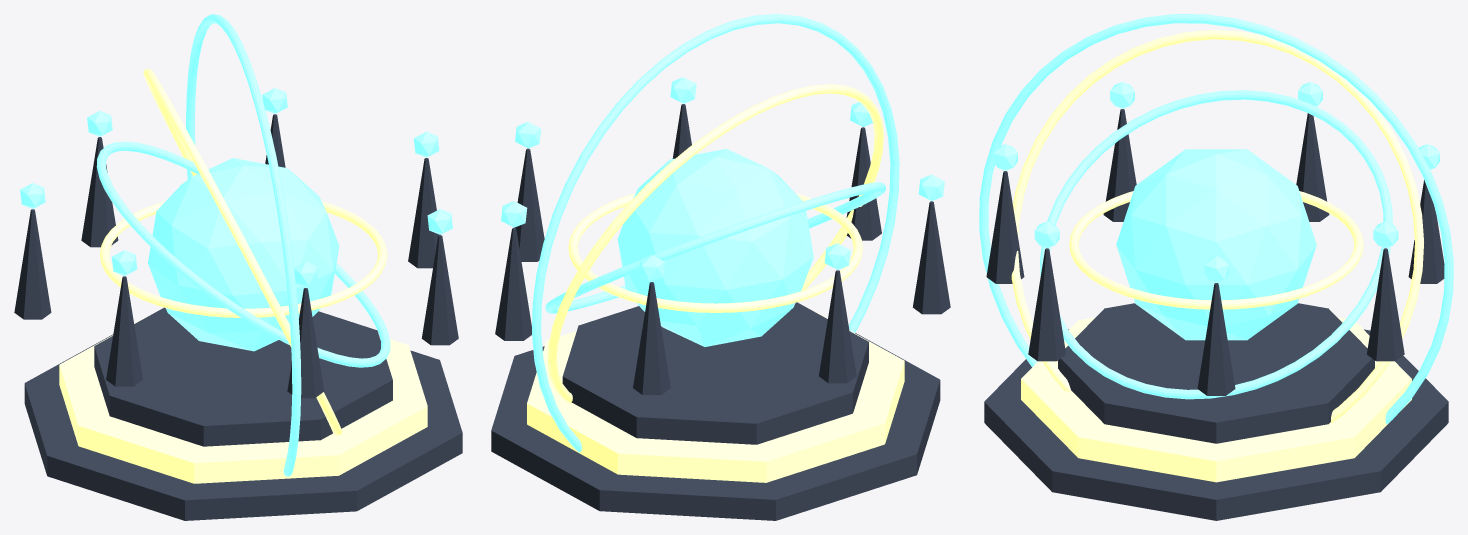
The model's file is gpu-blender-v32.glb.
3 views of the same model, side by side, from view 1: azimuth 30°, elevation 25°; view 2: azimuth 150°, elevation 25°; view 3: azimuth 270°, elevation 25° (orthographic). The views are drawn at different scales.
Parts seen in each view (by area): view 1: Cylinder.002, SovereignCore_ufo-sacred-geometry, Cylinder, Cylinder.001, Torus.003, Torus.001, Torus, Torus.002, Cone.003, Cone.006, Cone.004, Cone (+8 smaller); view 2: Cylinder.002, SovereignCore_ufo-sacred-geometry, Cylinder, Cylinder.001, Torus.003, Torus.002, Torus.001, Torus, Cone.003, Cone.004, Cone.002, Cone.001 (+9 smaller); view 3: SovereignCore_ufo-sacred-geometry, Cylinder.002, Cylinder, Cylinder.001, Torus.003, Torus.002, Torus.001, Torus, Cone.001, Cone.006, Cone, Cone.005 (+5 smaller).
Part boxes in pixels (bbox=[...]): Cylinder.002: bbox=[94, 307, 392, 446]; SovereignCore_ufo-sacred-geometry: bbox=[148, 158, 339, 351]; Cylinder: bbox=[24, 334, 462, 520]; Cylinder.001: bbox=[59, 315, 427, 483]; Torus.003: bbox=[186, 14, 301, 476]; Torus.001: bbox=[96, 141, 390, 367]; Torus: bbox=[100, 201, 387, 317]; Torus.002: bbox=[143, 68, 342, 435]; Cone.003: bbox=[14, 209, 51, 319]; Cone.006: bbox=[421, 235, 458, 345]; Cone.004: bbox=[106, 276, 142, 386]; Cone: bbox=[408, 158, 440, 268]; Cylinder.002: bbox=[562, 302, 868, 444]; SovereignCore_ufo-sacred-geometry: bbox=[617, 149, 813, 346]; Cylinder: bbox=[491, 333, 940, 520]; Cylinder.001: bbox=[527, 310, 904, 482]; Torus.003: bbox=[532, 14, 899, 452]; Torus.002: bbox=[547, 84, 883, 403]; Torus.001: bbox=[545, 182, 885, 313]; Torus: bbox=[568, 193, 862, 312]; Cone.003: bbox=[819, 270, 856, 383]; Cone.004: bbox=[912, 201, 950, 314]; Cone.002: bbox=[633, 282, 670, 394]; Cone.001: bbox=[495, 228, 531, 340]; SovereignCore_ufo-sacred-geometry: bbox=[1116, 149, 1316, 340]; Cylinder.002: bbox=[1058, 303, 1374, 443]; Cylinder: bbox=[984, 329, 1448, 520]; Cylinder.001: bbox=[1021, 317, 1411, 482]; Torus.003: bbox=[979, 14, 1453, 424]; Torus.002: bbox=[1011, 30, 1423, 422]; Torus.001: bbox=[1040, 90, 1392, 399]; Torus: bbox=[1069, 191, 1363, 309]; Cone.001: bbox=[1366, 248, 1404, 361]; Cone.006: bbox=[1028, 248, 1066, 361]; Cone: bbox=[1197, 283, 1235, 395]; Cone.005: bbox=[986, 171, 1024, 283].
Bounding box in the file's own units: 4.41 × 4.7 × 4.49.
